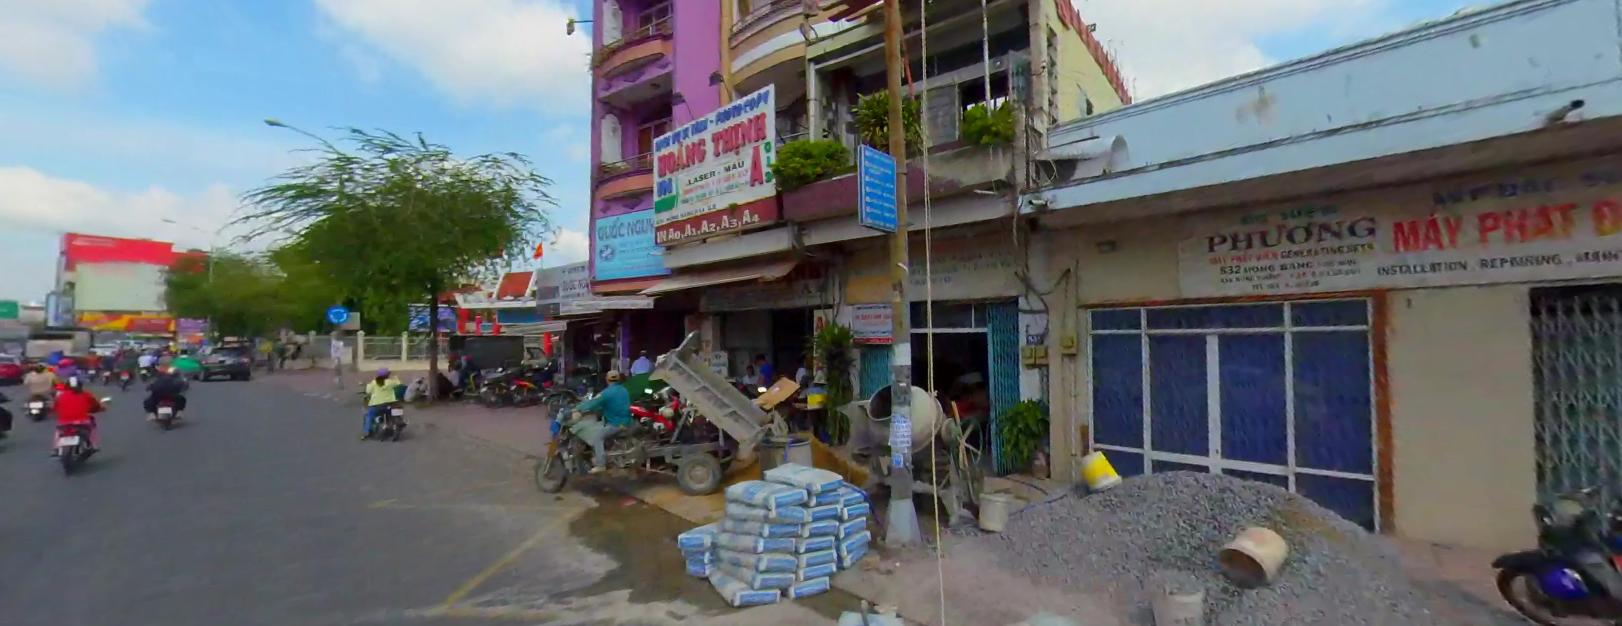Hieu lenh: (326, 303, 349, 322)
